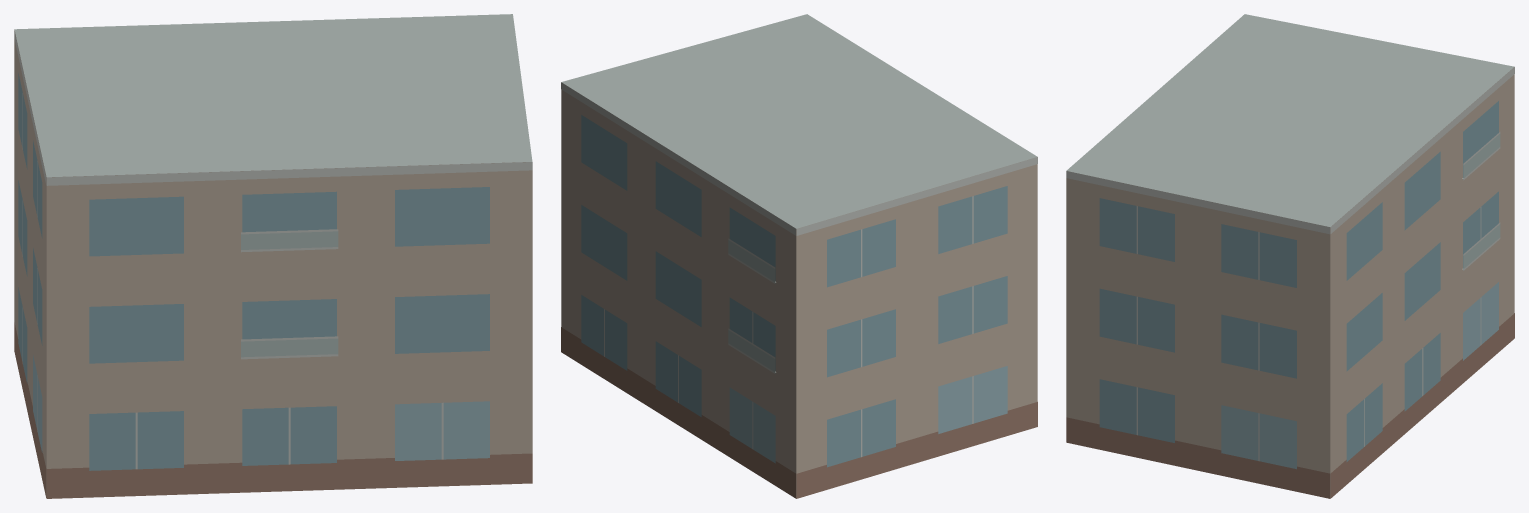
The model's file is survey-upis-32953826.glb.
The picture shows the model from 3 angles, left to right: view 1: azimuth 30°, elevation 25°; view 2: azimuth 150°, elevation 25°; view 3: azimuth 270°, elevation 25°; orthographic projection. The views are drawn at different scales.
Parts seen in each view (by area): view 1: survey-upis-32953826.tmp; view 2: survey-upis-32953826.tmp; view 3: survey-upis-32953826.tmp.
Part boxes in pixels (box(x1,y1,x2,y2)): survey-upis-32953826.tmp: box(14, 14, 532, 498); survey-upis-32953826.tmp: box(561, 14, 1037, 498); survey-upis-32953826.tmp: box(1066, 14, 1514, 498).
Size of the model in its own units: 15.41 by 9.15 by 13.7.
